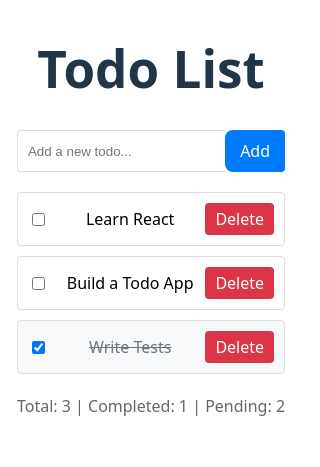
Scenario: TodoList › adds a new todo when form is submitted
Type "New Test Todo" into the field with placeholder "Add a new todo..." at (121, 152), box [17,130,225,172]
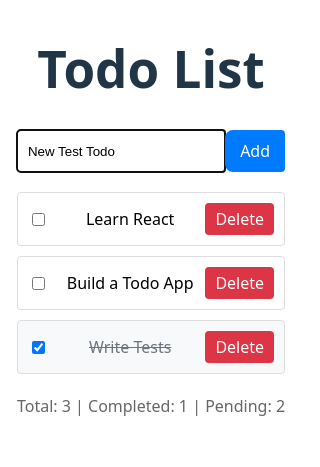
Click the button "Add" at (255, 152), box [225,130,285,172]
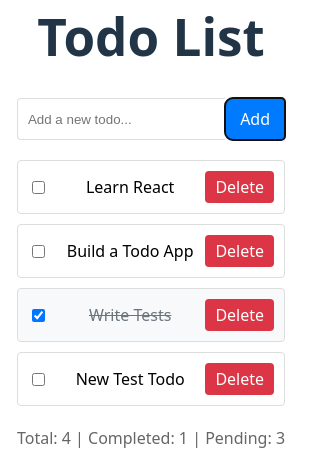
Expected: the text "Total: 4 | Completed: 1 | Pending: 3" is shown, [17,426,285,450]
Now the text "New Test Todo" is shown, box [76,368,185,390]
